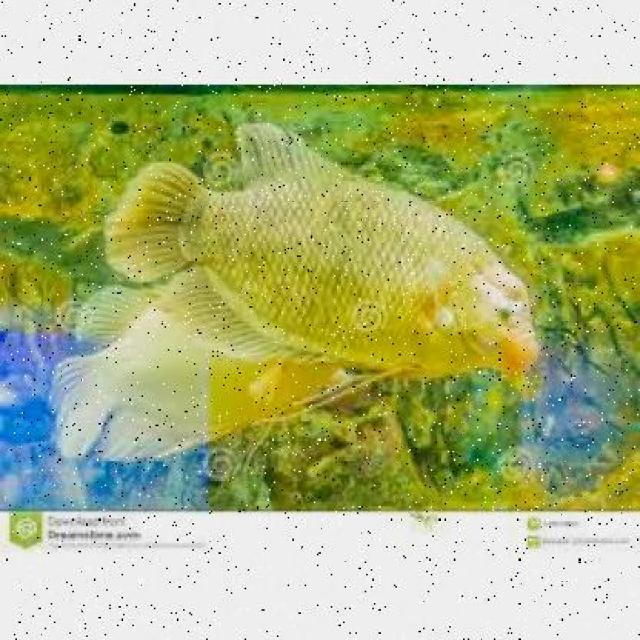gurame: (114, 134, 542, 382)
